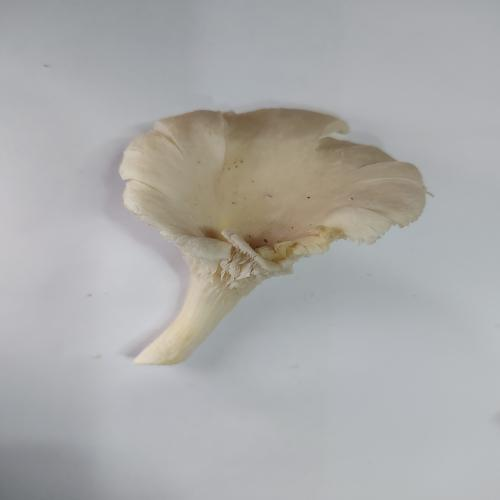Oyster Mushroom: (117, 106, 430, 366)
